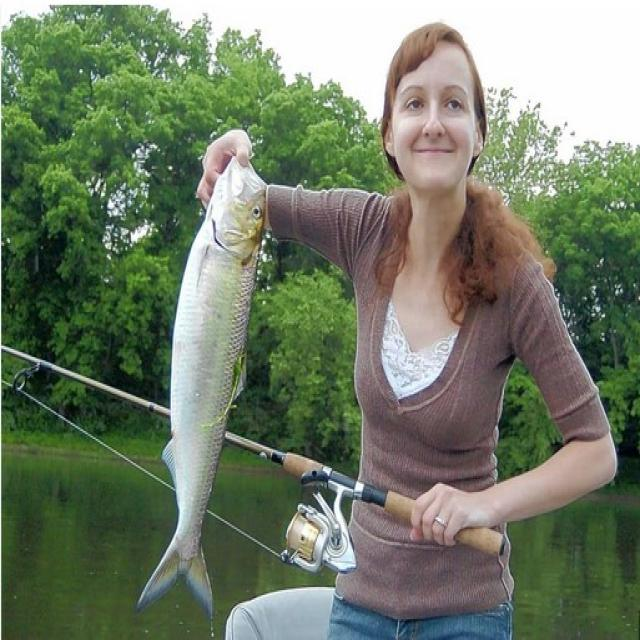Shad - American: (136, 161, 265, 618)
